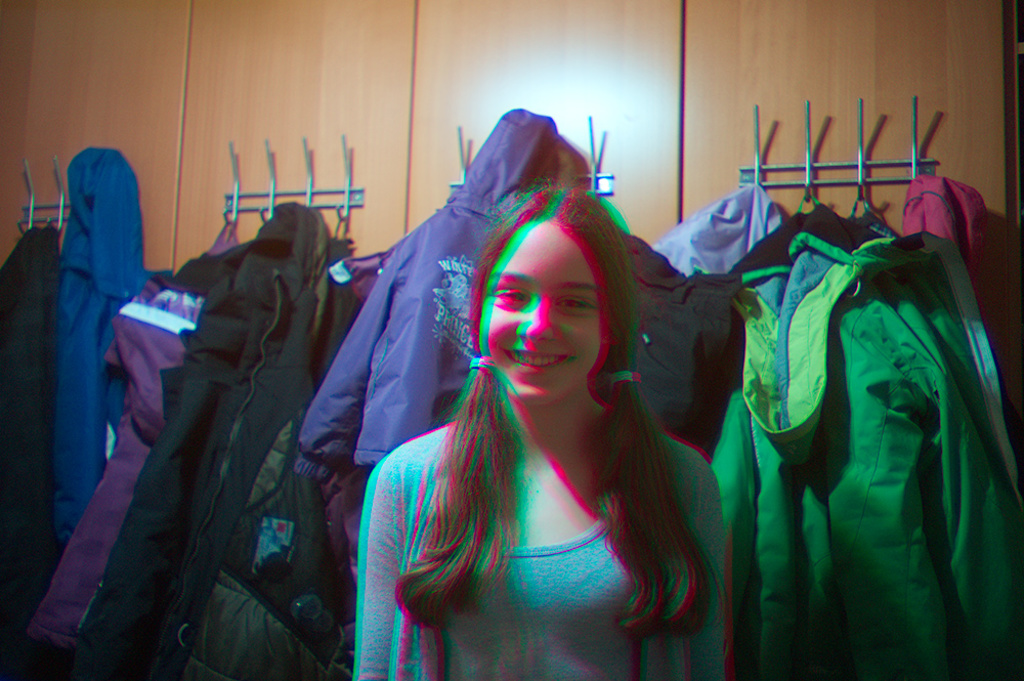Human-face: (470, 223, 624, 418)
